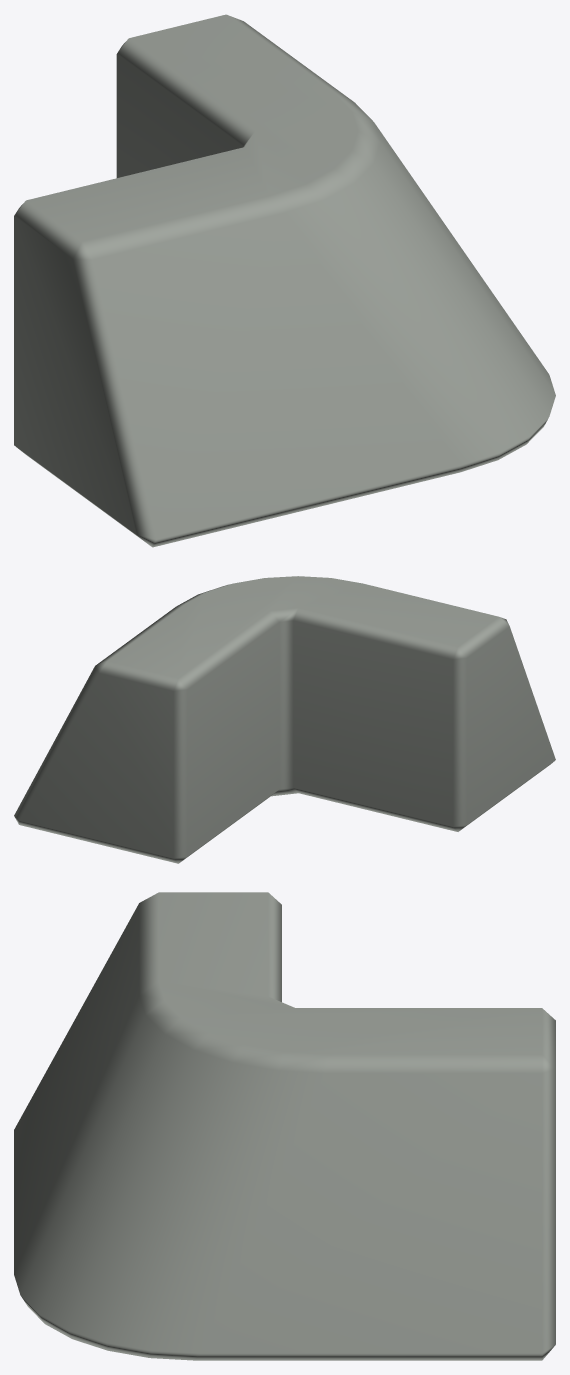
The model's file is Env_Wall_SpaceStation_OutCorner_2x2.fbx.
3 views of the same model, one above another, from view 1: azimuth 30°, elevation 25°; view 2: azimuth 150°, elevation 25°; view 3: azimuth 270°, elevation 25° (orthographic). The views are drawn at different scales.
Parts seen in each view (by area): view 1: Wall_Corner_Outer; view 2: Wall_Corner_Outer; view 3: Wall_Corner_Outer.
Boxes of the visible parts, bbox=[...] form: Wall_Corner_Outer: bbox=[14, 14, 555, 547]; Wall_Corner_Outer: bbox=[14, 576, 555, 863]; Wall_Corner_Outer: bbox=[14, 892, 555, 1360].
Size of the model in its own units: 198 by 100 by 198.
